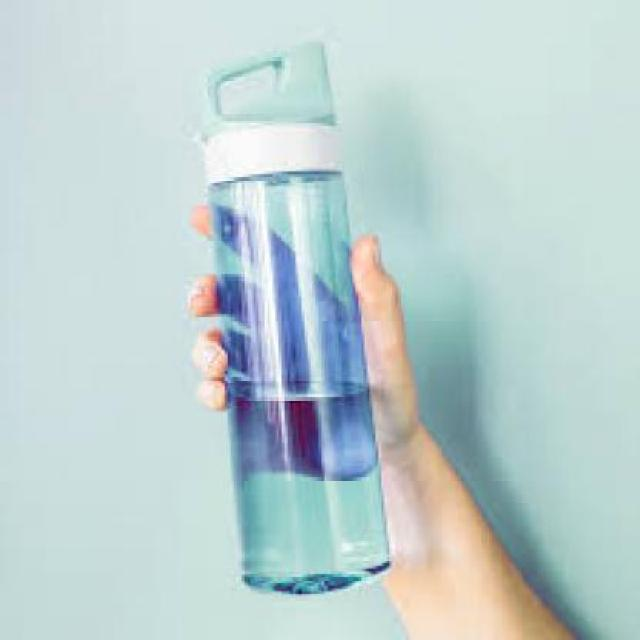Drinking: (182, 46, 412, 623)
